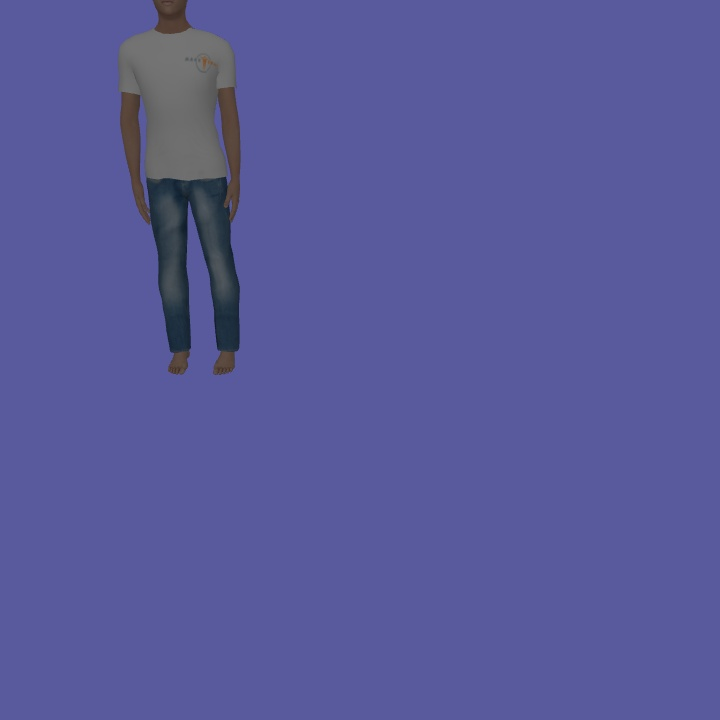victim: (108, 1, 244, 375)
